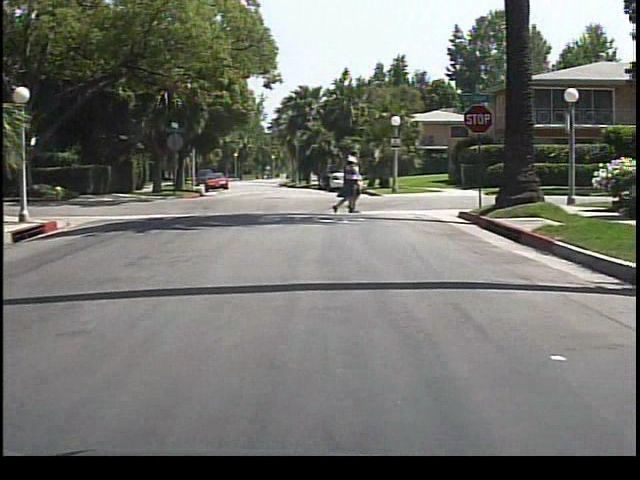person: (330, 149, 364, 217)
